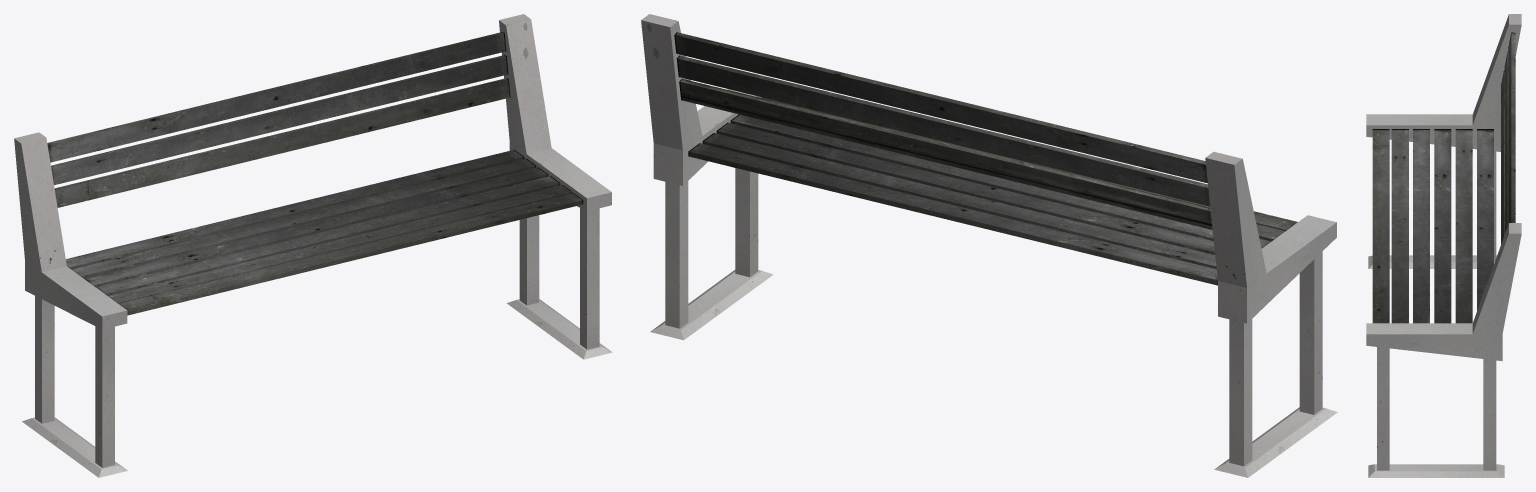
Rendered from Scameica.fbx.
The picture shows the model from 3 angles, left to right: view 1: azimuth 30°, elevation 25°; view 2: azimuth 150°, elevation 25°; view 3: azimuth 270°, elevation 25°; orthographic projection. The views are drawn at different scales.
Parts seen in each view (by area): view 1: Straight__4_.001; view 2: Straight__4_.001; view 3: Straight__4_.001.
Part boxes in pixels (x1,y1,x2,y2): Straight__4_.001: [14, 14, 612, 477]; Straight__4_.001: [641, 14, 1337, 477]; Straight__4_.001: [1366, 14, 1521, 477].
Size of the model in its own units: 251 by 129 by 74.63.
Materials: 2 (2 with a texture image).
